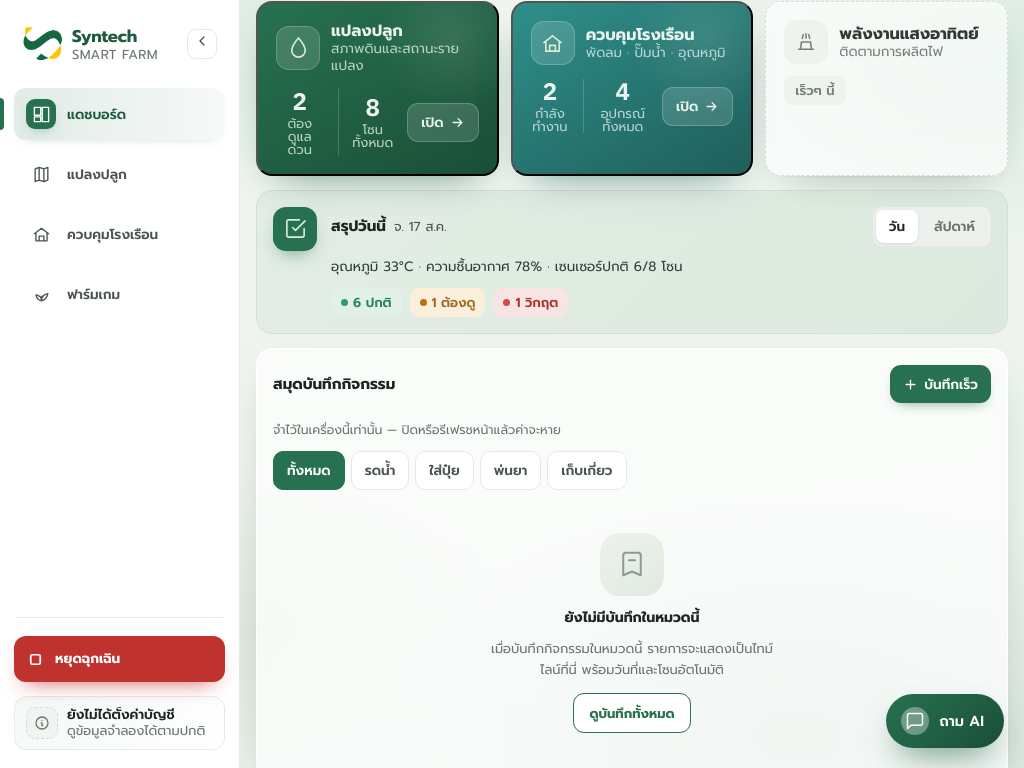
it: DashboardPage › บันทึกเร็วเพิ่มรายการเข้าไทม์ไลน์จริง
(page scrolled)
Click the button "บันทึกเร็ว" at (941,384), box [890,365,991,403]
(page scrolled)
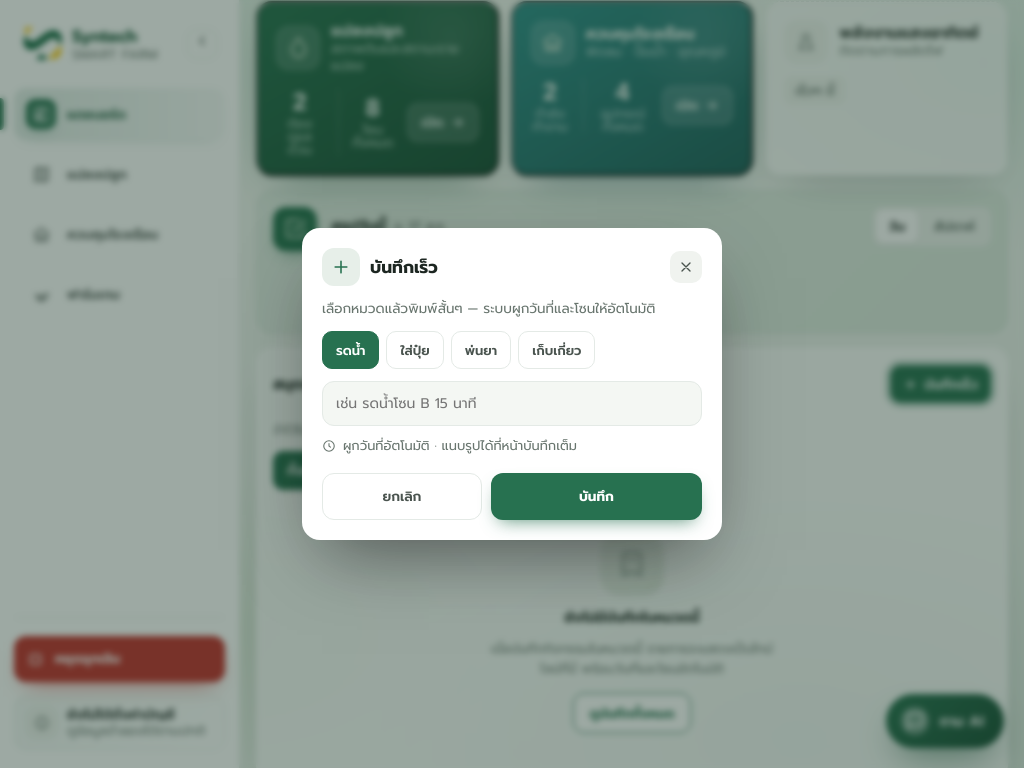
Click the button "เก็บเกี่ยว" at (557,350), box [518,331,595,369]
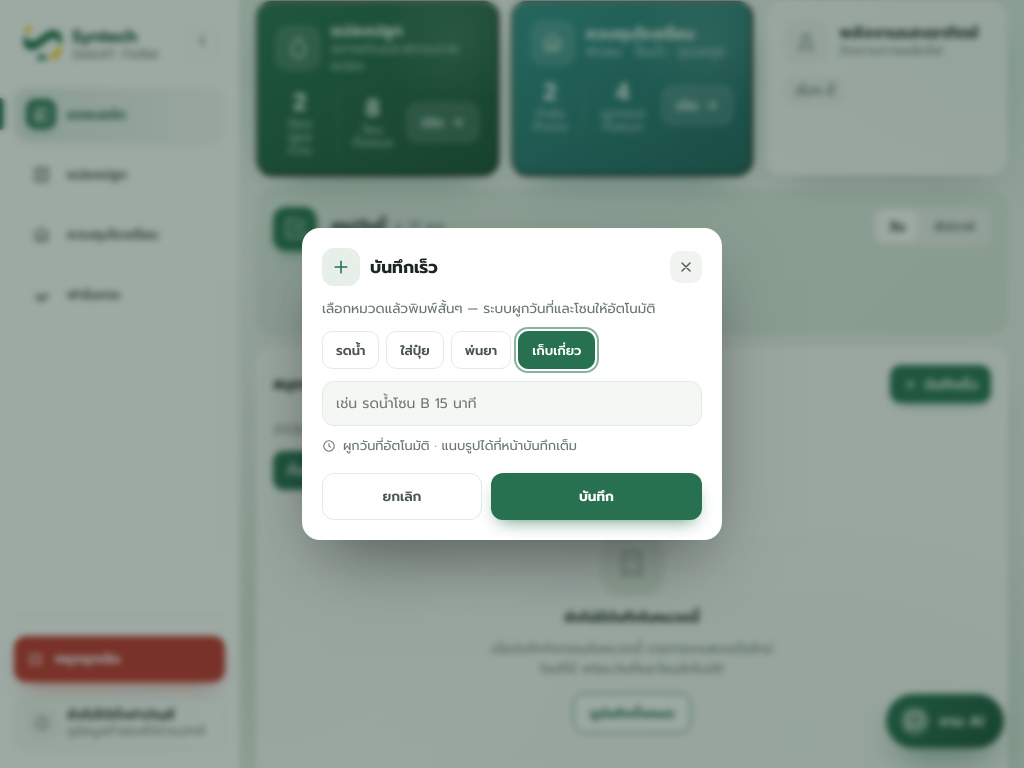
Type "เก็บผักสลัดโซน E" into the field labelled "เช่น รดน้ำโซน B 15 นาที" at (512,404), box [322,381,702,426]
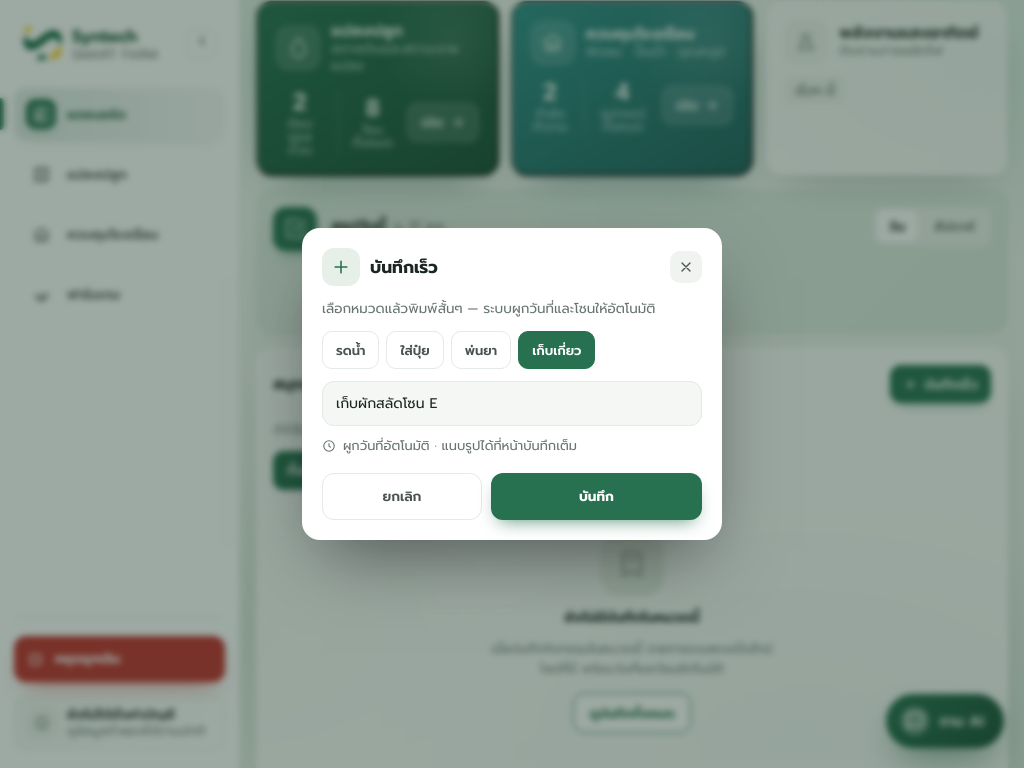
Click the button "บันทึก" at (596,497), box [491,473,702,520]
(page scrolled)
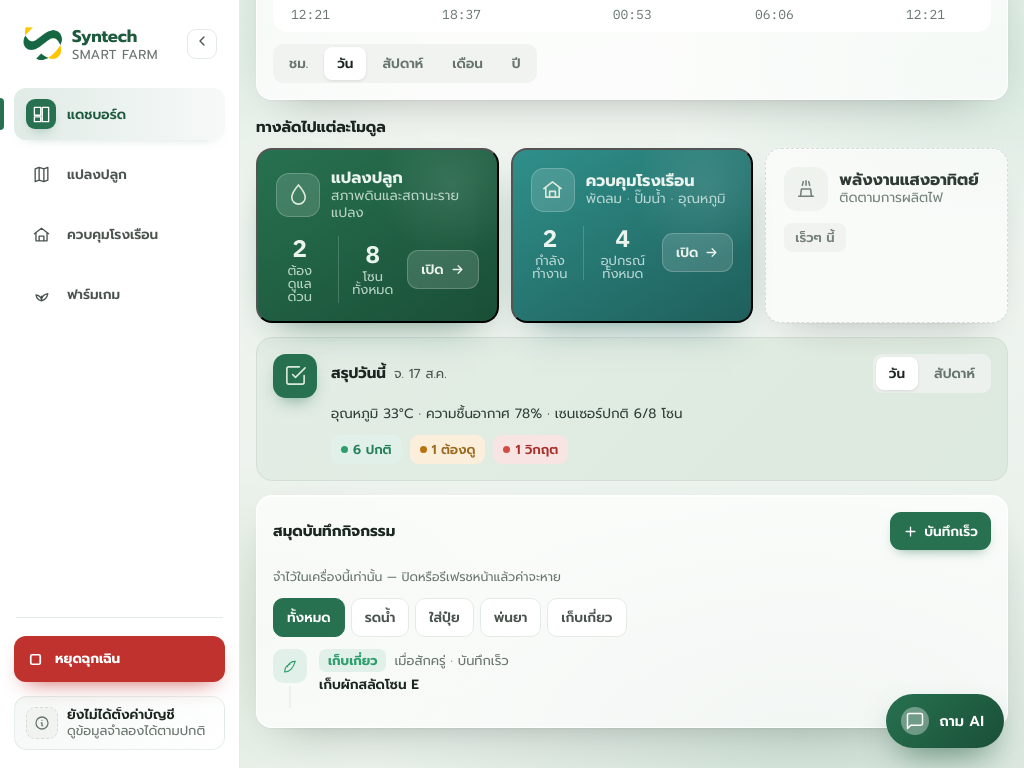
Expected: the text "เก็บผักสลัดโซน E" is shown, [319,674,419,695]
Expected: the text "เมื่อสักครู่ · บันทึกเร็ว" is shown, [394,651,509,670]
